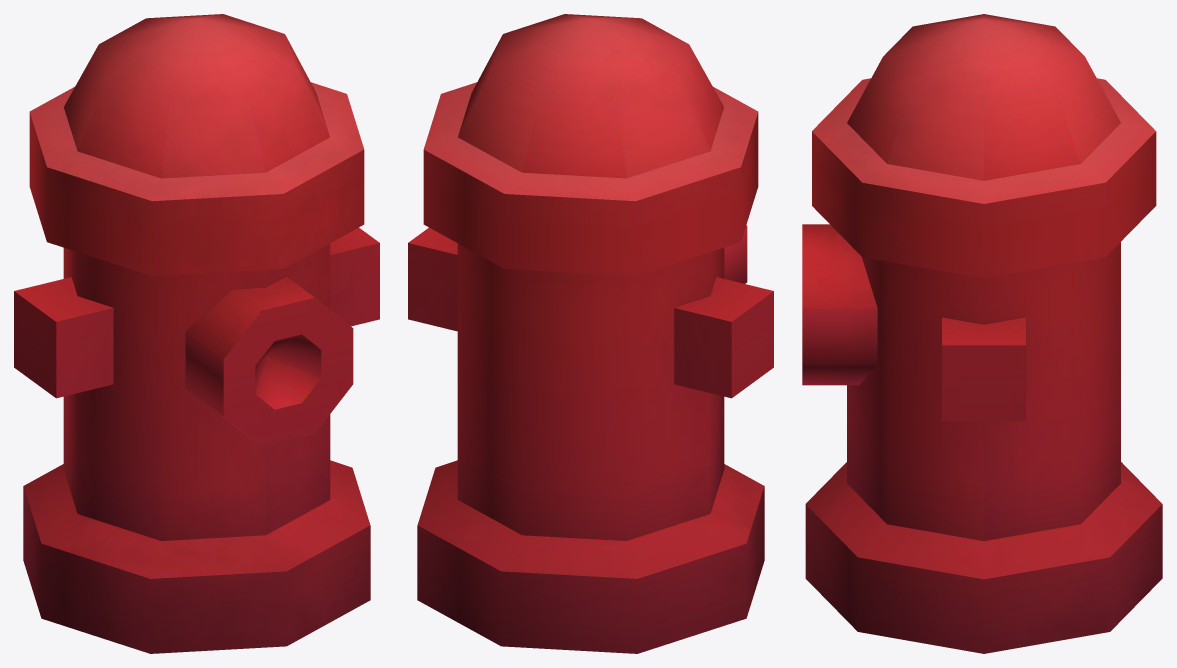
File: firehydrant.glb
3 views of the same model, side by side, from view 1: azimuth 30°, elevation 25°; view 2: azimuth 150°, elevation 25°; view 3: azimuth 270°, elevation 25° (orthographic).
Visible parts, largest first — view 1: firehydrant; view 2: firehydrant; view 3: firehydrant.
Boxes of the visible parts, box(x1,y1,x2,y2) form: firehydrant: box(14, 14, 379, 653); firehydrant: box(408, 14, 773, 653); firehydrant: box(802, 14, 1162, 653).
Size of the model in its own units: 0.1355 by 0.2246 by 0.1313.
1 material, 1 textured.
